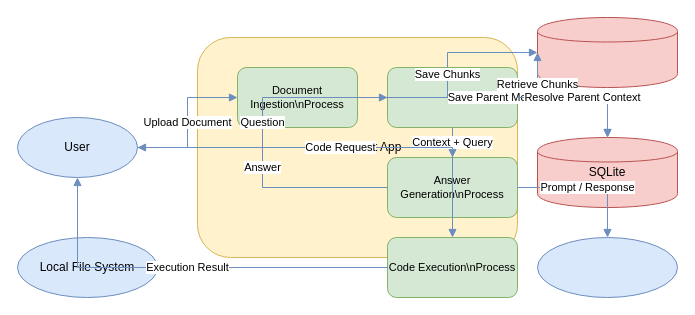
The diagram is 695 pixels wide and 315 high, and some of its shapes have lost their labels. Each missing label, with the centre of its shape:
"ChromaDB" goes at point 607,52.
"Hybrid Retrieval\nProcess" goes at point 452,97.
"Ollama LLM" goes at point 607,267.
